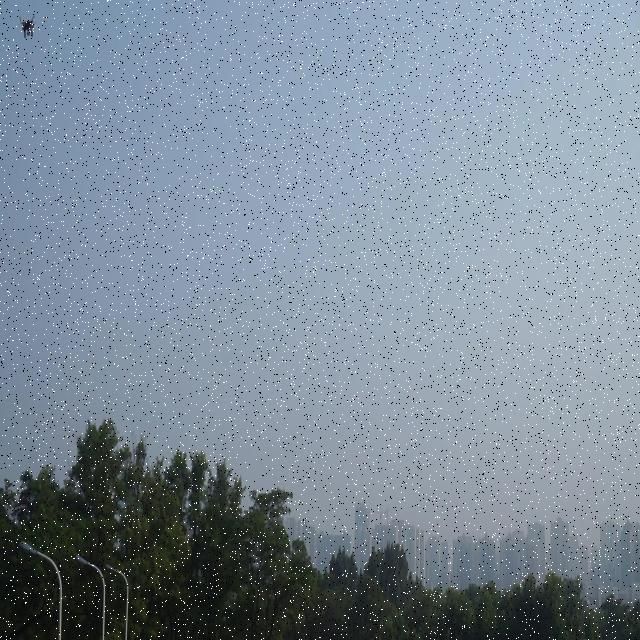UAV: (19, 15, 37, 38)
